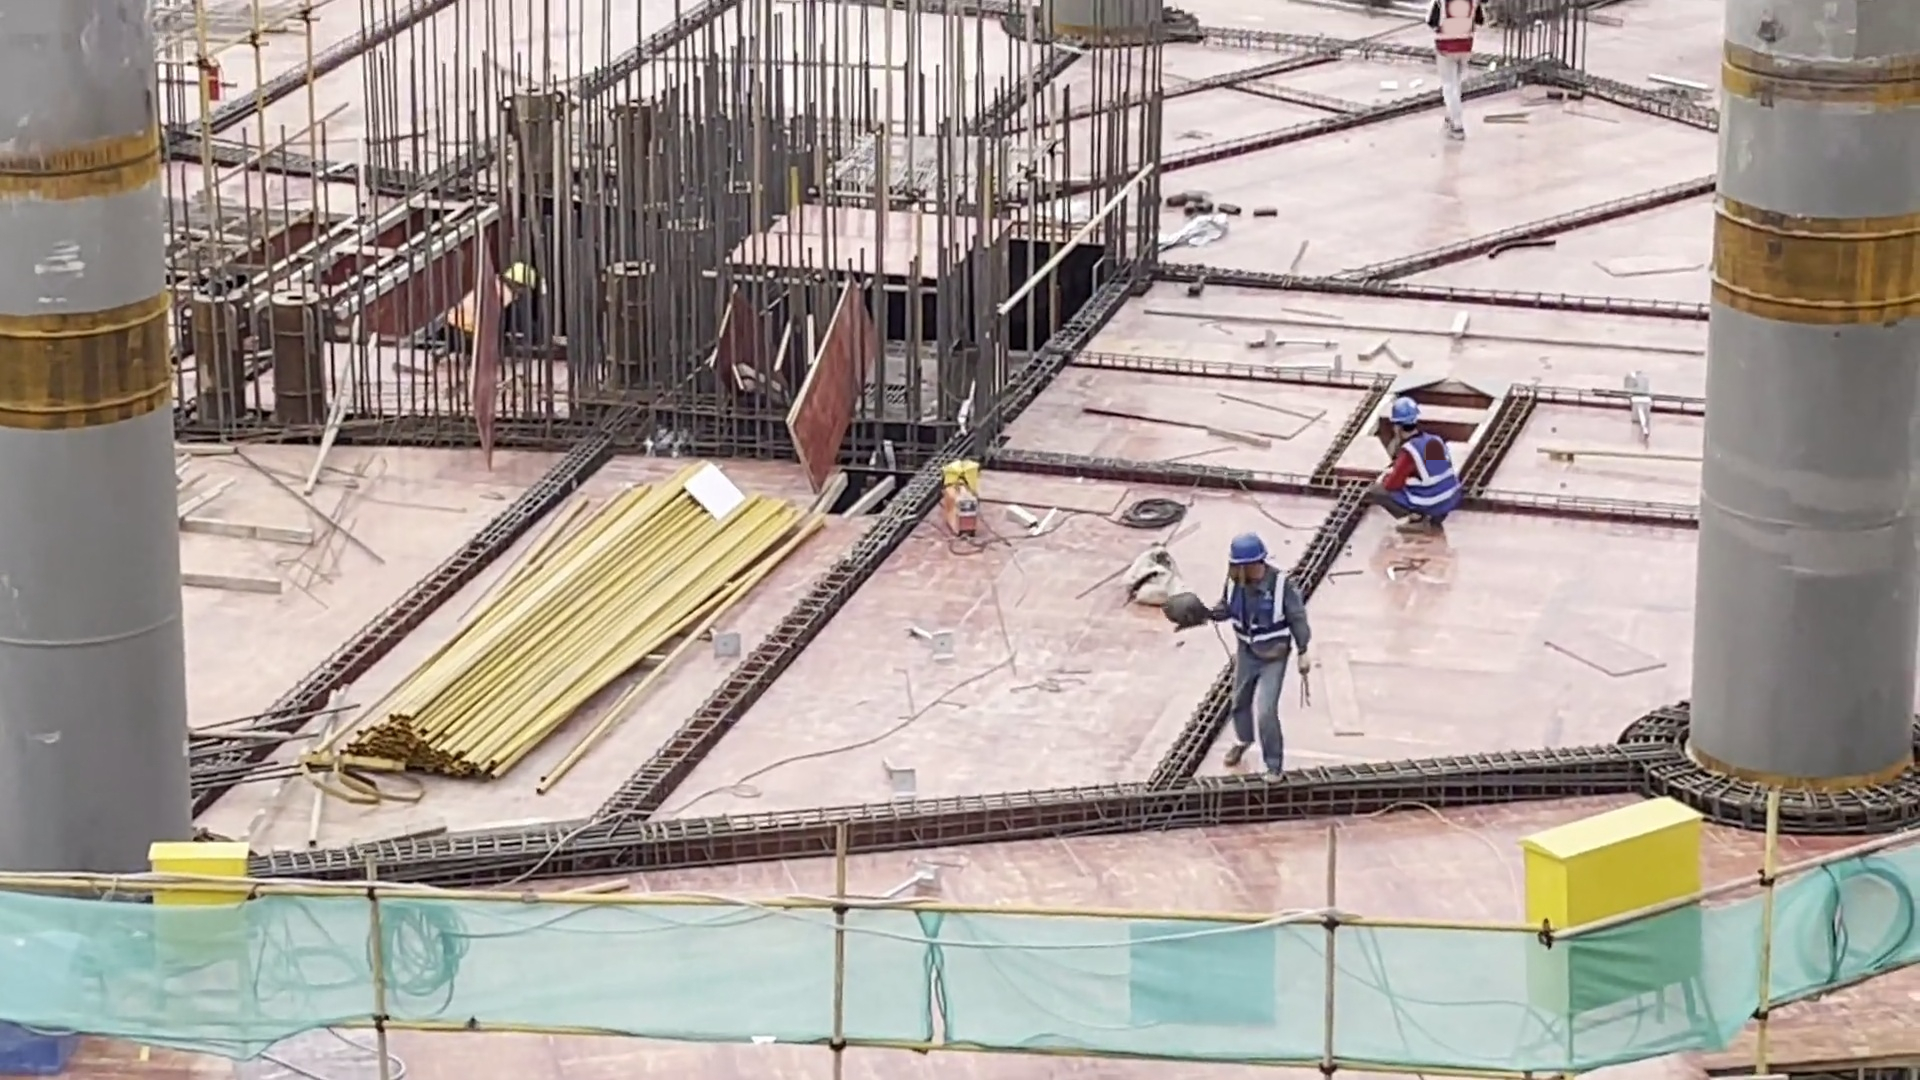ebox: (1518, 796, 1722, 1066), (146, 841, 253, 1012)
helmet: (1229, 533, 1268, 563), (1389, 396, 1421, 423)
person: (1206, 534, 1311, 777), (1366, 396, 1460, 541), (1418, 1, 1488, 143)
vest: (1227, 565, 1297, 659), (1394, 433, 1461, 519)
